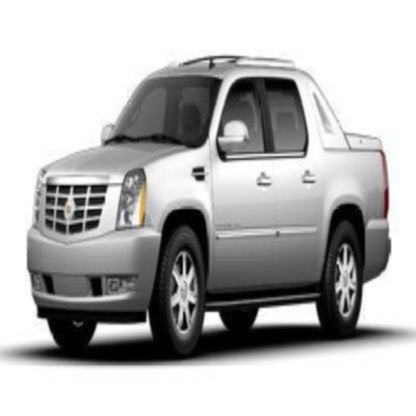Vehicle: (23, 50, 393, 354)
